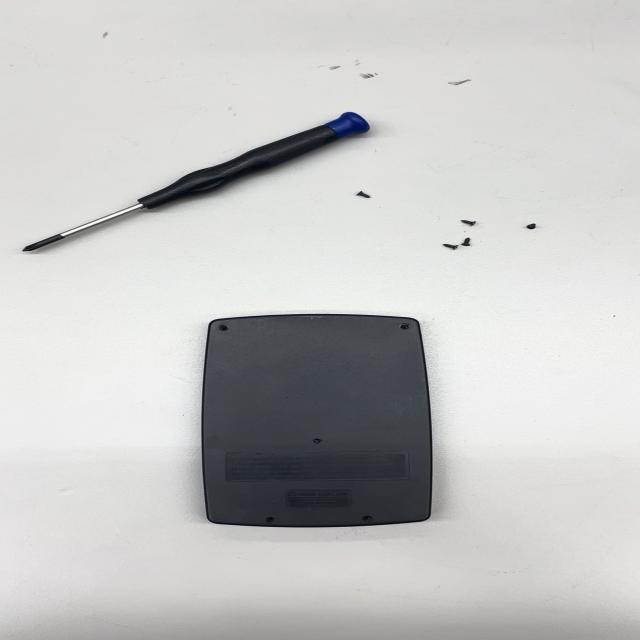back_cover: (200, 311, 436, 529)
screw: (431, 239, 464, 254), (456, 217, 478, 229), (453, 236, 477, 247), (350, 186, 370, 199), (524, 219, 541, 232)
screw_driver: (22, 111, 376, 256)
